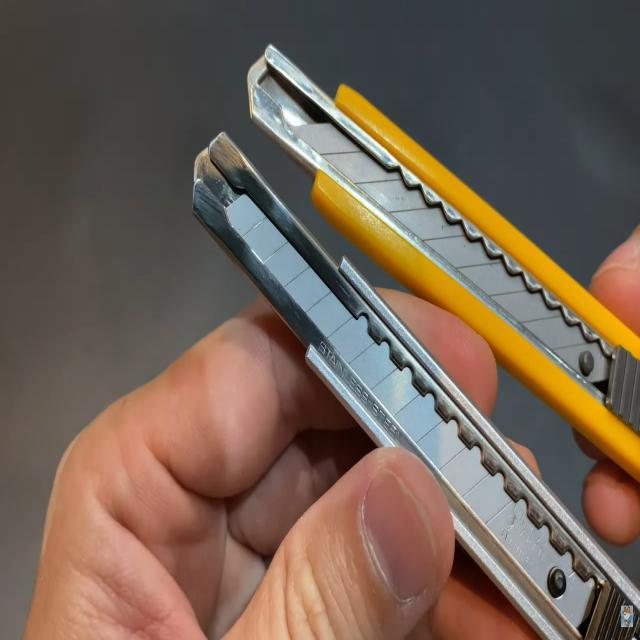cutter: (106, 14, 640, 639)
